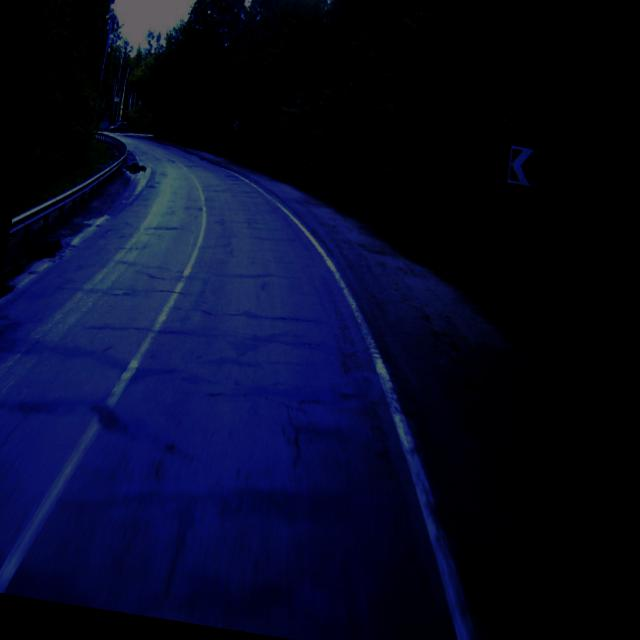road: (0, 137, 567, 640)
